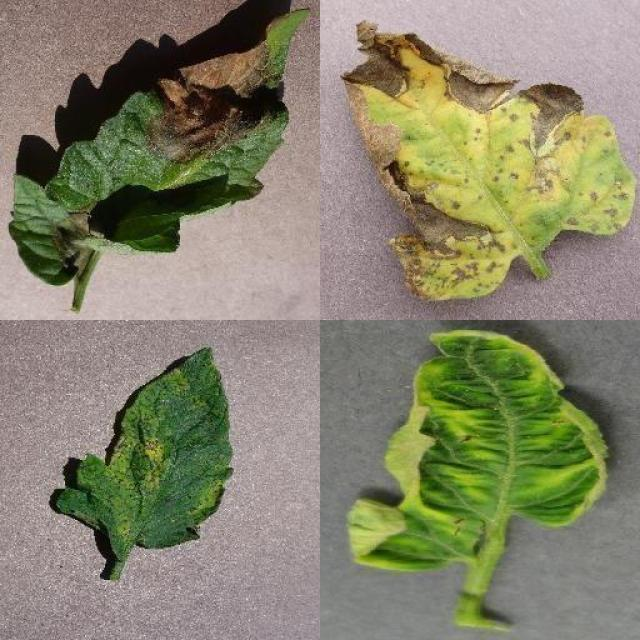Late Blight: (8, 10, 312, 288)
Septoria: (344, 22, 638, 302), (55, 346, 236, 552)
